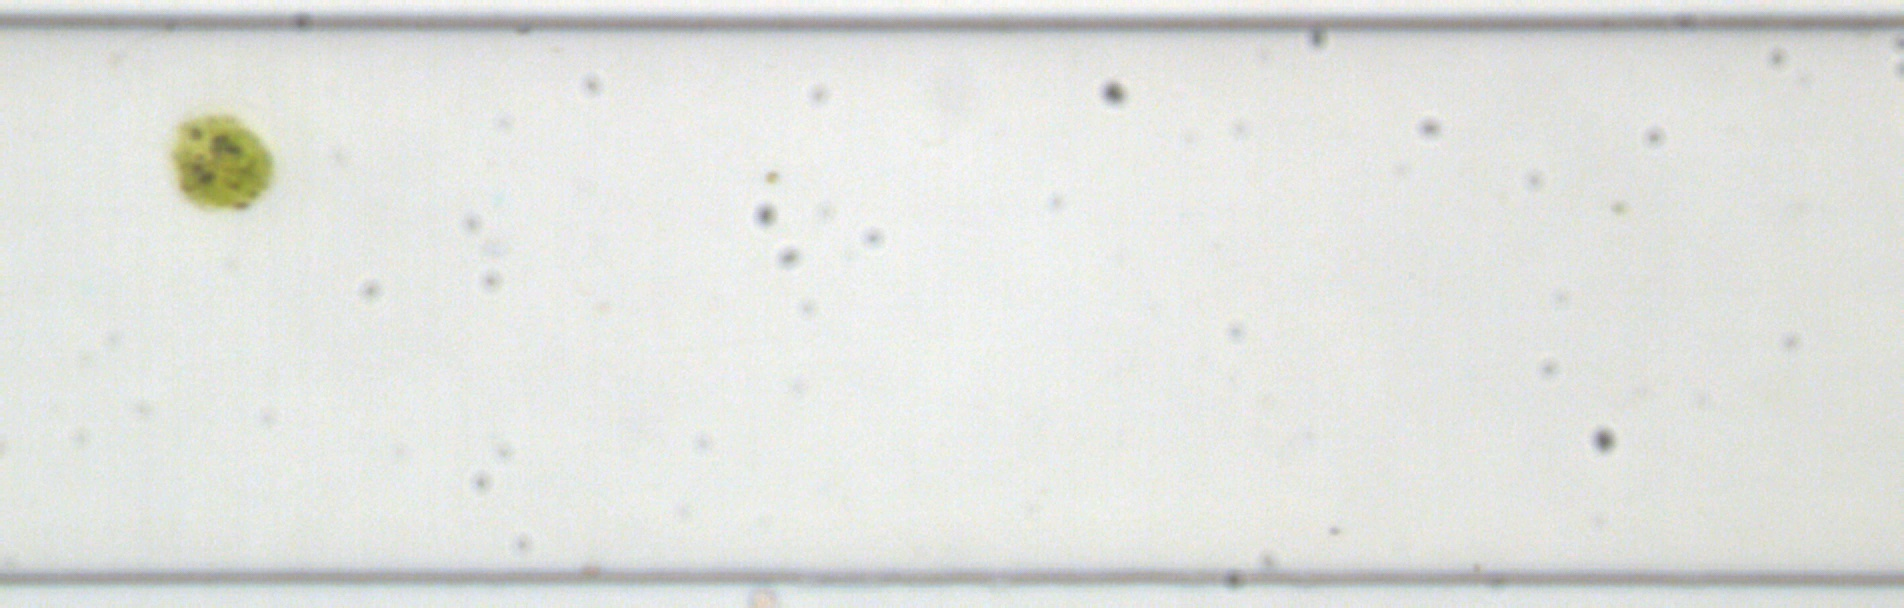Chlorella: (763, 167, 780, 184), (1609, 198, 1625, 214)
Haematococcus: (171, 110, 272, 214)
